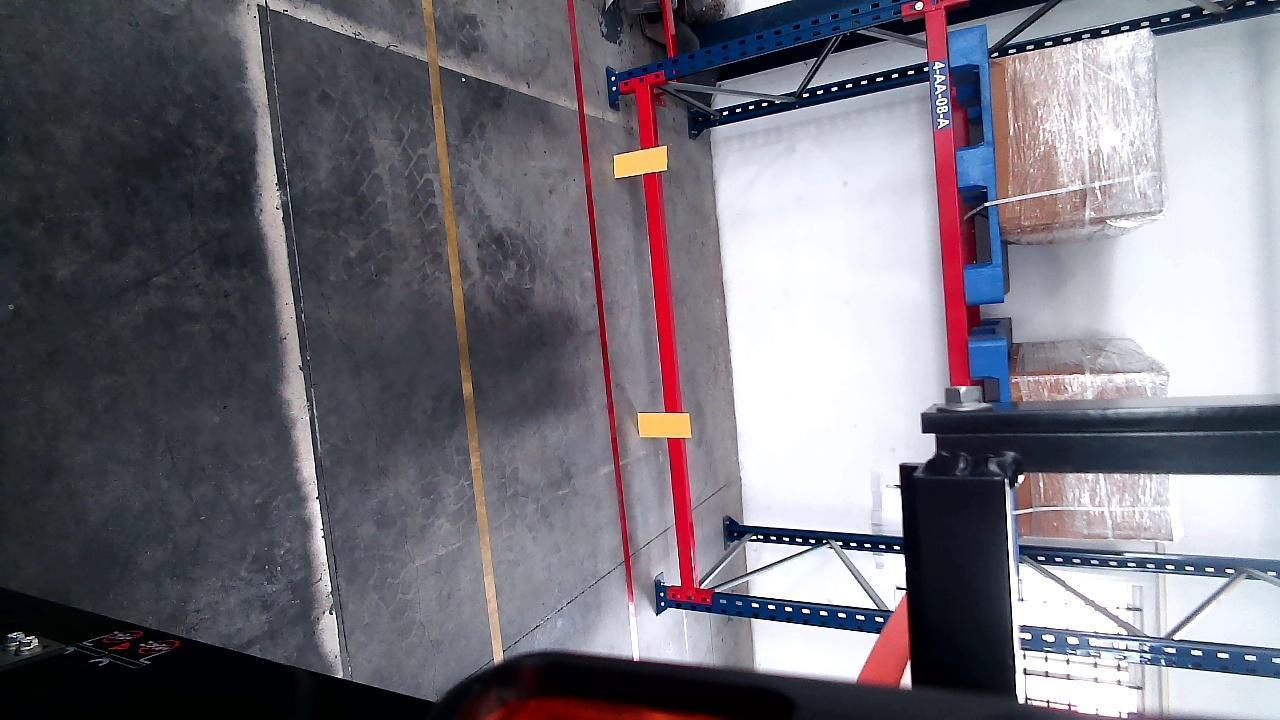h_rack: (637, 79, 701, 592), (930, 18, 965, 386)
orange_strip: (612, 147, 667, 177), (639, 410, 689, 438)
red_line: (560, 0, 640, 656)
small_pallet: (951, 24, 1000, 296)
